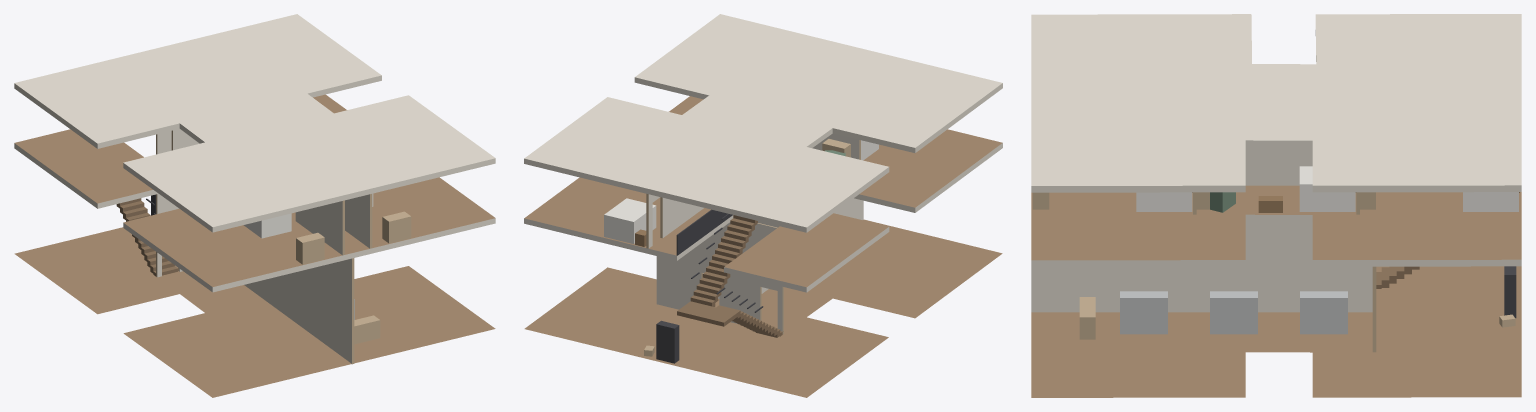
Rendered from interior.glb.
3 views of the same model, side by side, from view 1: azimuth 30°, elevation 25°; view 2: azimuth 150°, elevation 25°; view 3: azimuth 270°, elevation 25° (orthographic). The views are drawn at different scales.
Parts seen in each view (by area): view 1: slabs, partitions, coarse-s1, stair, coarse-s0; view 2: slabs, partitions, stair, coarse-s1, coarse-s0; view 3: slabs, partitions, coarse-s0, coarse-s1, stair.
Part boxes in pixels (x1,y1,x2,y2): slabs: [14, 14, 495, 397]; partitions: [156, 128, 372, 364]; coarse-s1: [243, 193, 411, 264]; stair: [116, 198, 177, 276]; coarse-s0: [151, 194, 380, 344]; slabs: [524, 14, 1002, 397]; partitions: [646, 133, 863, 334]; stair: [676, 209, 783, 337]; coarse-s1: [604, 139, 878, 246]; coarse-s0: [644, 273, 719, 363]; slabs: [1031, 14, 1521, 397]; partitions: [1031, 147, 1376, 352]; coarse-s0: [1079, 266, 1516, 339]; coarse-s1: [1032, 166, 1519, 212]; stair: [1376, 266, 1419, 288].
Size of the model in its own units: 14.5 by 8.34 by 17.44.
